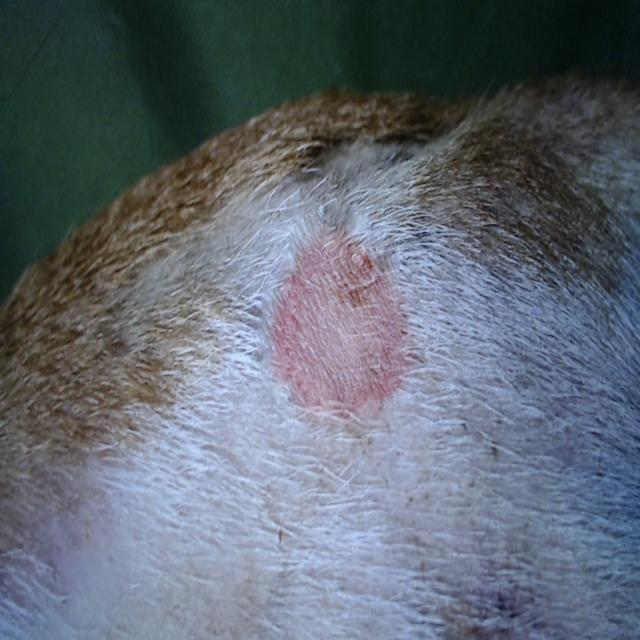ringworm: (264, 216, 427, 420)
